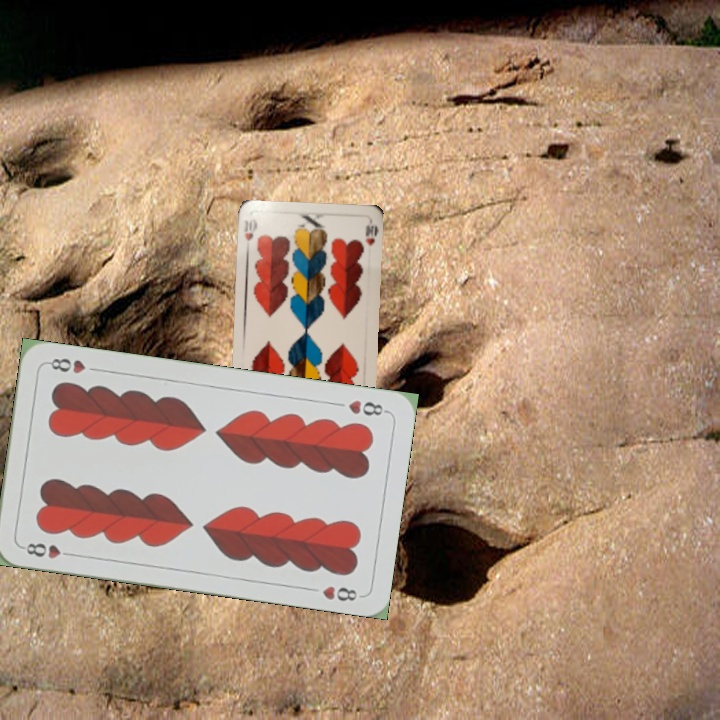H10: (240, 215, 259, 254)
H8: (18, 539, 77, 561), (344, 396, 390, 418)
